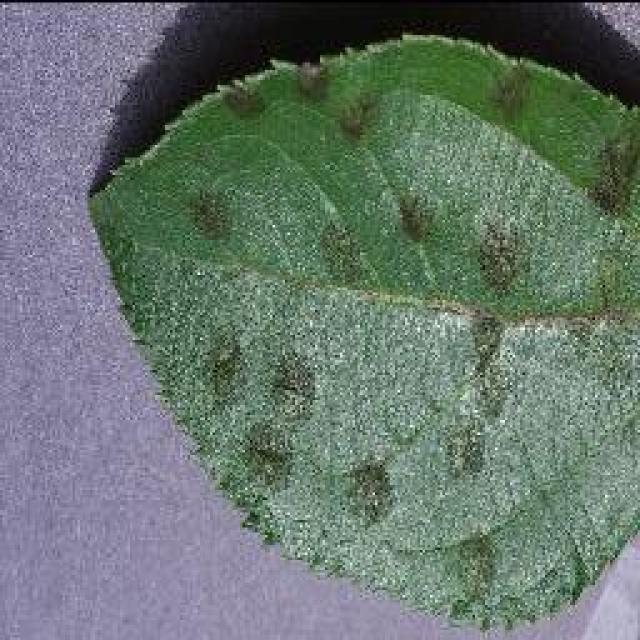apple scab disease: (85, 30, 637, 632)
